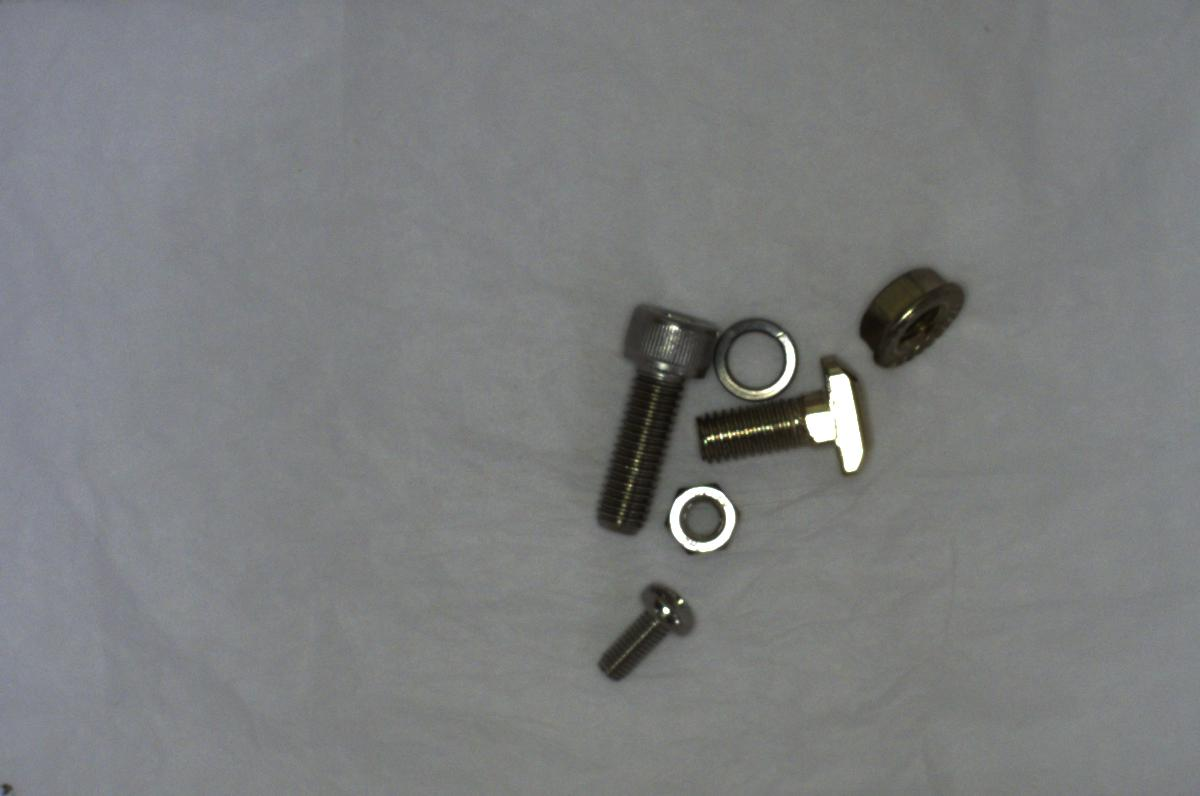Flange nut: (848, 256, 979, 376)
Hexagon nut: (658, 478, 748, 560)
Hexagon screw: (573, 295, 730, 545)
Round head screw: (587, 572, 701, 692)
Spring washer: (701, 304, 800, 406)
T-shaped screw: (687, 355, 873, 487)
